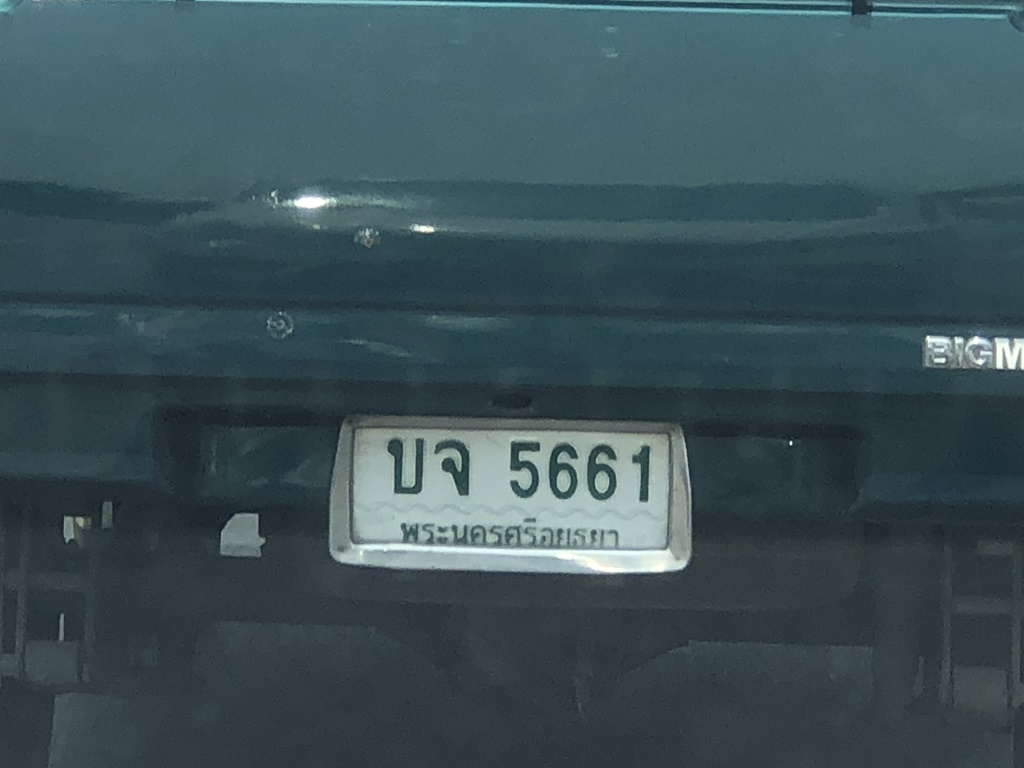five: (499, 435, 547, 505)
one: (622, 437, 660, 507)
six: (538, 427, 585, 515), (584, 435, 622, 510)
